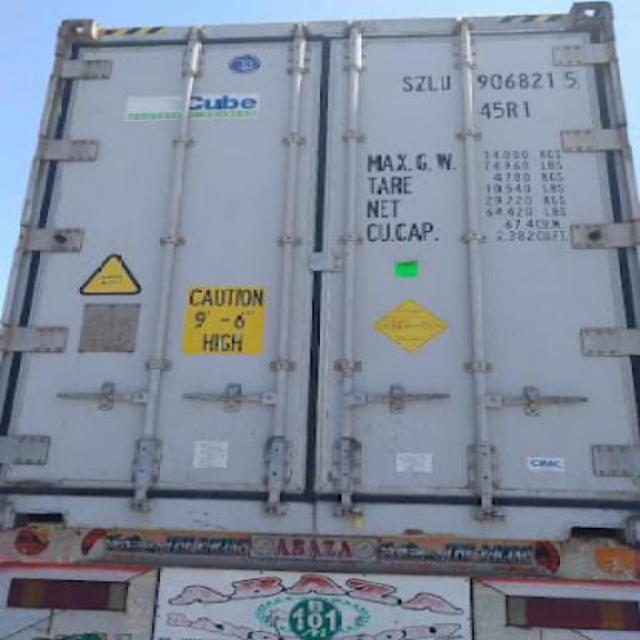0: (488, 70, 502, 92)
1: (544, 70, 558, 92)
2: (530, 72, 544, 92)
5: (562, 70, 578, 90)
6: (504, 72, 516, 90)
8: (516, 72, 530, 92)
9: (474, 73, 488, 91)
L: (426, 73, 439, 93)
S: (400, 73, 416, 93)
U: (438, 72, 452, 92)
Z: (414, 74, 430, 95)
